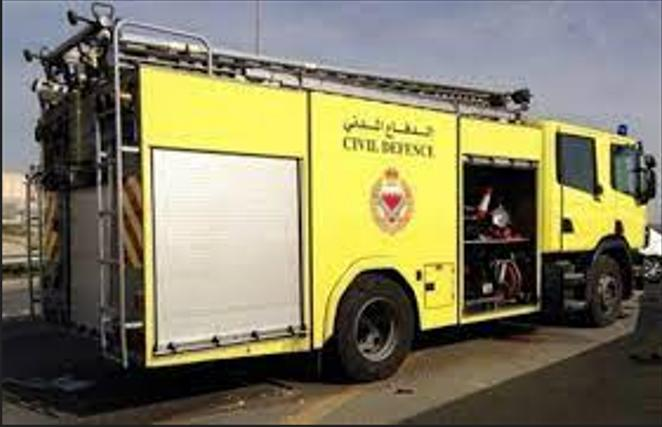firetruck_off: (27, 18, 653, 381)
